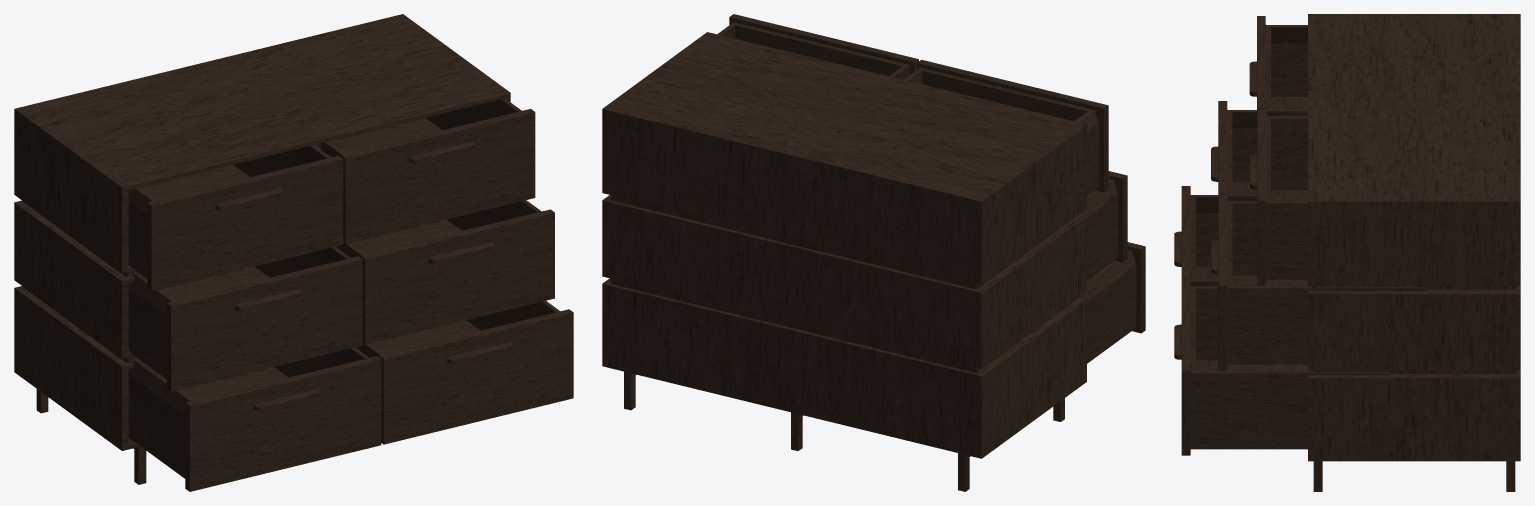
Rendered from spintele.glb.
The picture shows the model from 3 angles, left to right: view 1: azimuth 30°, elevation 25°; view 2: azimuth 150°, elevation 25°; view 3: azimuth 270°, elevation 25°; orthographic projection. The views are drawn at different scales.
Parts seen in each view (by area): view 1: Spintele, Drawer5, Drawer3, Drawer1, Drawer2, Drawer4, Drawer6; view 2: Spintele, Drawer1, Drawer5, Drawer2, Drawer3; view 3: Spintele, Drawer6, Drawer4, Drawer2, Drawer1, Drawer3, Drawer5.
Part boxes in pixels (bbox=[...]): Spintele: bbox=[14, 14, 510, 484]; Drawer5: bbox=[128, 347, 381, 491]; Drawer3: bbox=[128, 247, 362, 391]; Drawer1: bbox=[128, 145, 343, 291]; Drawer2: bbox=[320, 98, 535, 244]; Drawer4: bbox=[336, 200, 554, 344]; Drawer6: bbox=[355, 301, 573, 444]; Spintele: bbox=[602, 32, 1086, 491]; Drawer1: bbox=[903, 59, 1108, 195]; Drawer5: bbox=[1079, 242, 1145, 363]; Drawer2: bbox=[717, 14, 918, 79]; Drawer3: bbox=[1080, 171, 1127, 279]; Spintele: bbox=[1308, 14, 1520, 491]; Drawer6: bbox=[1174, 279, 1390, 455]; Drawer4: bbox=[1211, 194, 1426, 370]; Drawer2: bbox=[1250, 109, 1307, 285]; Drawer1: bbox=[1249, 16, 1307, 192]; Drawer3: bbox=[1211, 101, 1257, 201]; Drawer5: bbox=[1174, 186, 1218, 286].
Bounding box in the file's own units: 1 × 0.748 × 0.7815.
1 material, 1 textured.
